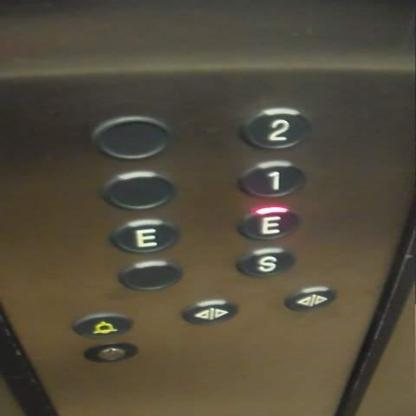1: (233, 157, 308, 200)
2: (235, 105, 314, 153)
E: (108, 217, 180, 257), (233, 204, 302, 243)
S: (233, 246, 296, 279)
alarm: (68, 312, 134, 339)
empty: (90, 112, 172, 161), (96, 168, 179, 212), (113, 260, 186, 292)
keyhole: (78, 341, 141, 364)
open: (178, 297, 241, 326), (282, 285, 340, 313)
